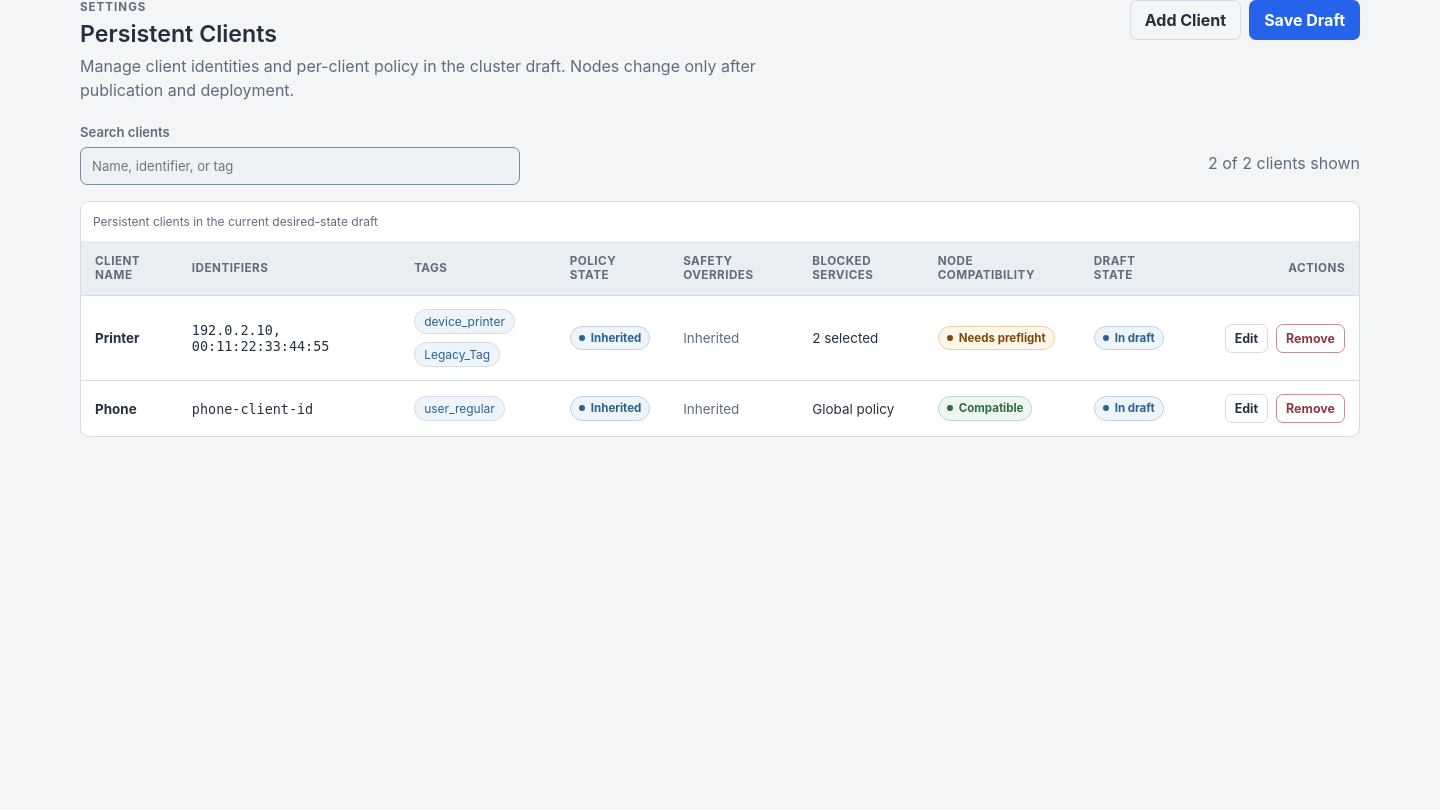
Test case: persistent clients page › renders the table and keyboard dialog in light theme at 1440px
The width and height of the screenshot is (1440, 810).
Step 1. Click the button with aria-label "Edit Printer" → point(1246, 338), box [1225, 324, 1268, 352]
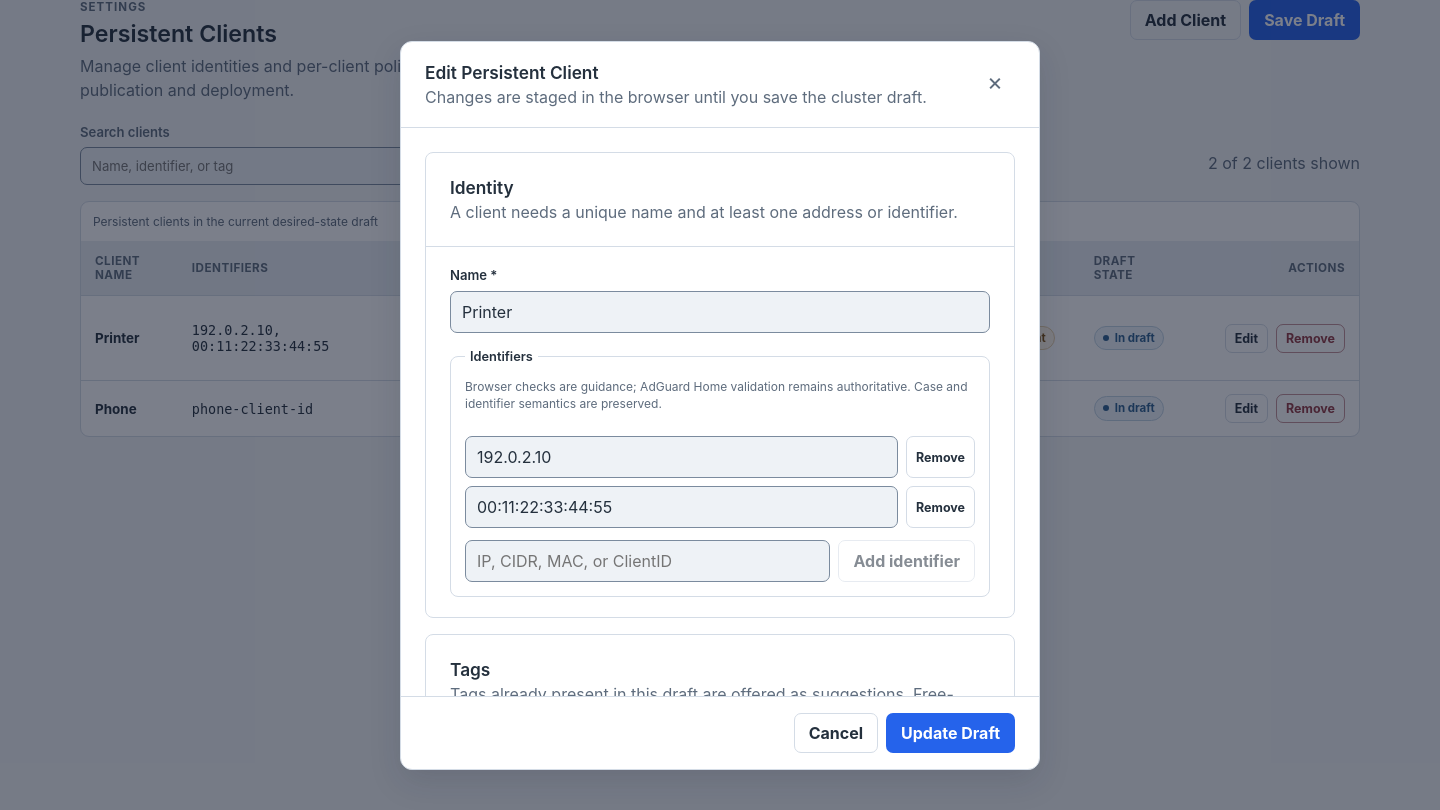
Expected: the element with class "data-table" is shown, [80, 201, 1360, 437]
Expected: the dialog "Edit Persistent Client" is shown
Step 2. Press Escape in the dialog "Edit Persistent Client", box [400, 40, 1040, 770]
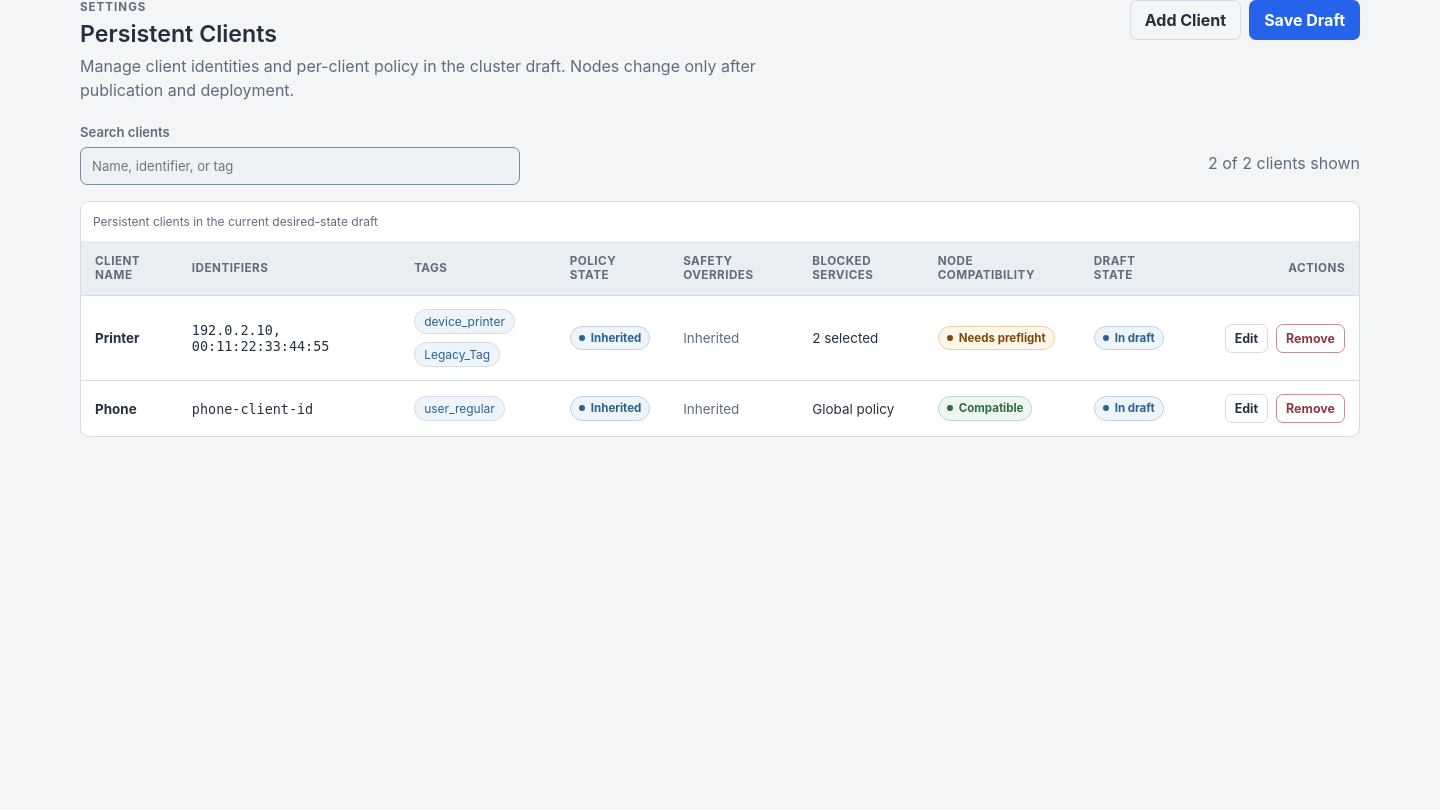
Expected: the heading "Edit Persistent Client" is gone
